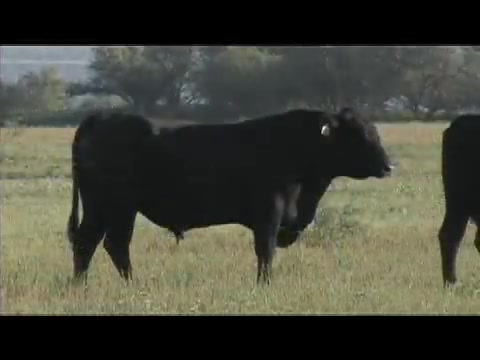cow: (69, 106, 395, 289), (436, 108, 480, 288)
